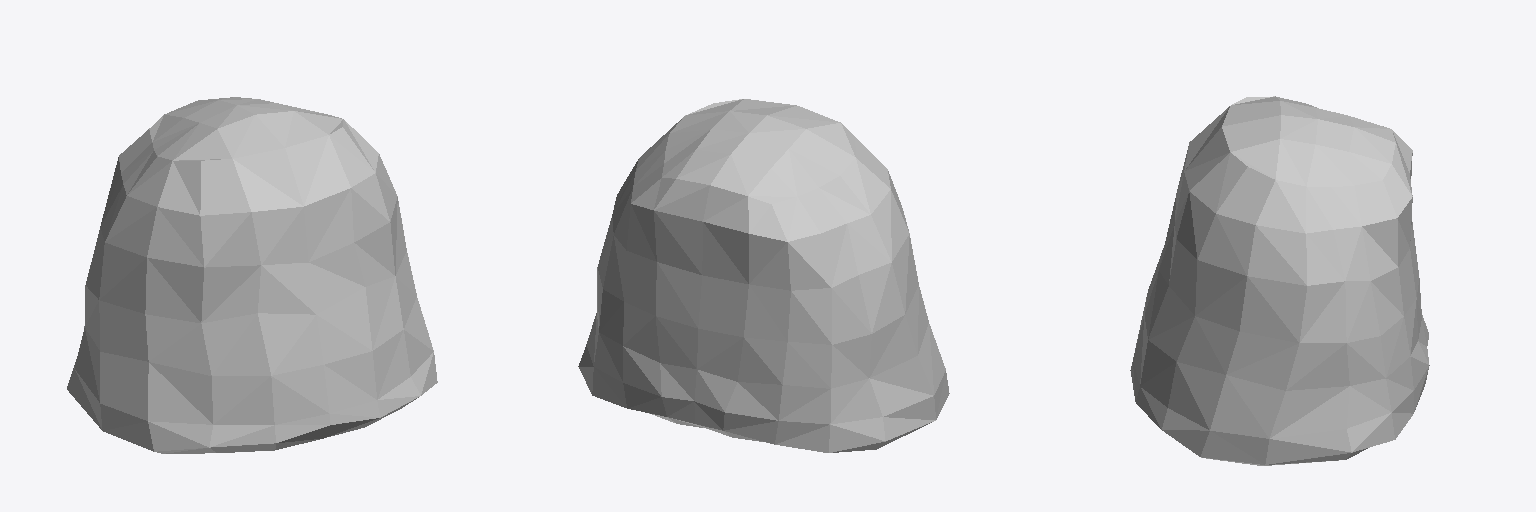
Rendered from belly_separate.obj.
The picture shows the model from 3 angles: view 1: azimuth 30°, elevation 25°; view 2: azimuth 150°, elevation 25°; view 3: azimuth 270°, elevation 25°; orthographic projection.
Visible parts, largest first — view 1: belly2 exp; view 2: belly2 exp; view 3: belly2 exp.
Part boxes in pixels (left/top/right/bottom): belly2 exp: left=67, top=97, right=437, bottom=453; belly2 exp: left=578, top=99, right=949, bottom=452; belly2 exp: left=1130, top=96, right=1429, bottom=465.
Bounding box in the file's own units: 10.26 × 8.58 × 8.25.